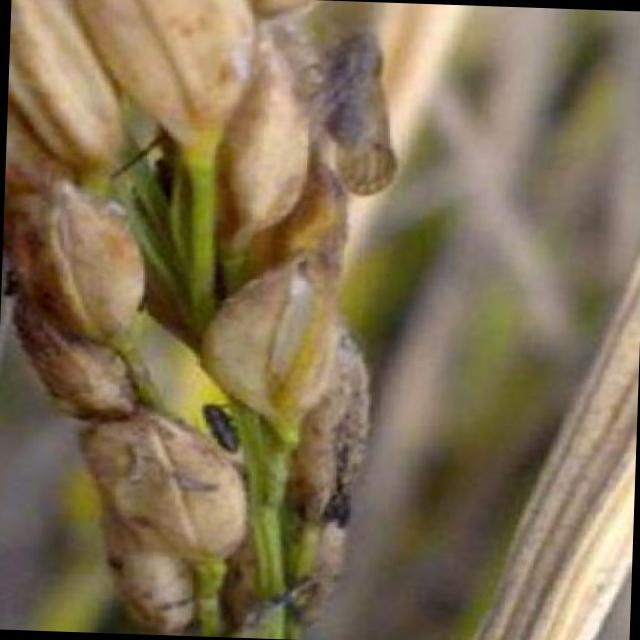brown-planthopper: (302, 18, 413, 202)
